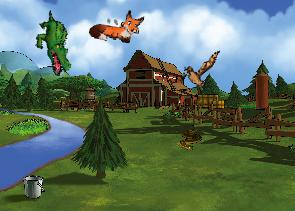crocodile: (23, 9, 86, 78)
eagle: (180, 47, 220, 97)
fox: (88, 4, 145, 47)
